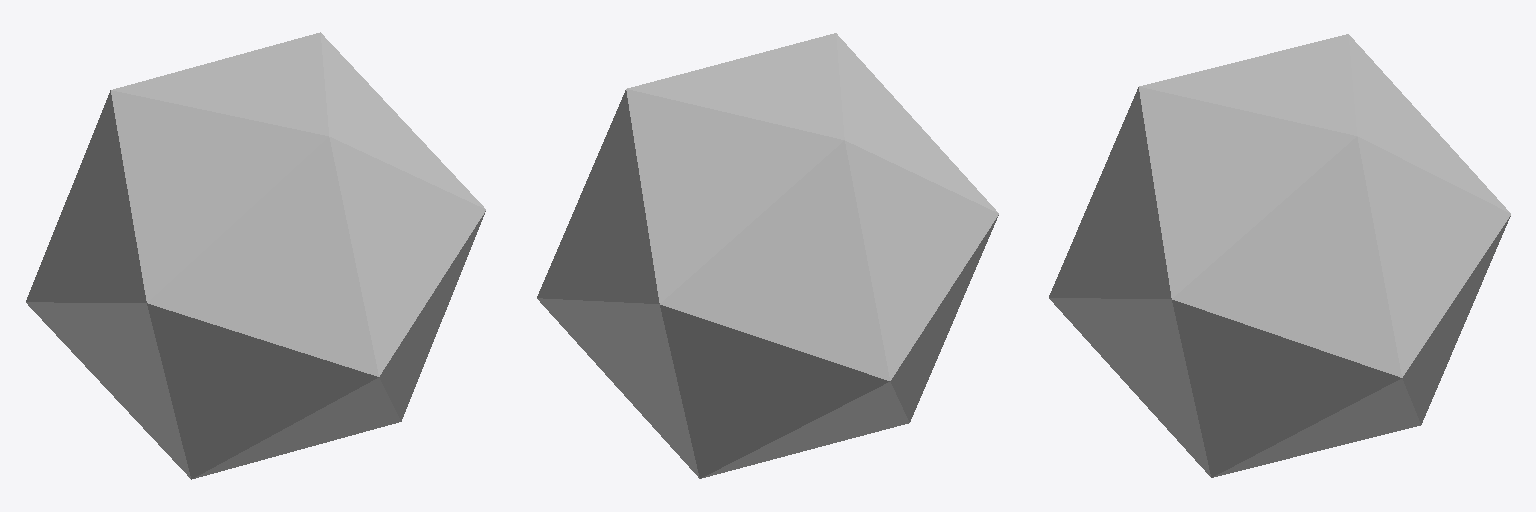
Rendered from ico.obj.
3 renders of one model, left to right at view 1: azimuth 30°, elevation 25°; view 2: azimuth 150°, elevation 25°; view 3: azimuth 270°, elevation 25°, orthographic.
Visible parts, largest first — view 1: Icosphere; view 2: Icosphere; view 3: Icosphere.
Boxes of the visible parts, x1=… form: Icosphere: x1=26, y1=32, x2=485, y2=479; Icosphere: x1=537, y1=33, x2=998, y2=478; Icosphere: x1=1049, y1=34, x2=1510, y2=477.
Size of the model in its own units: 1.73 by 1.6 by 1.97.